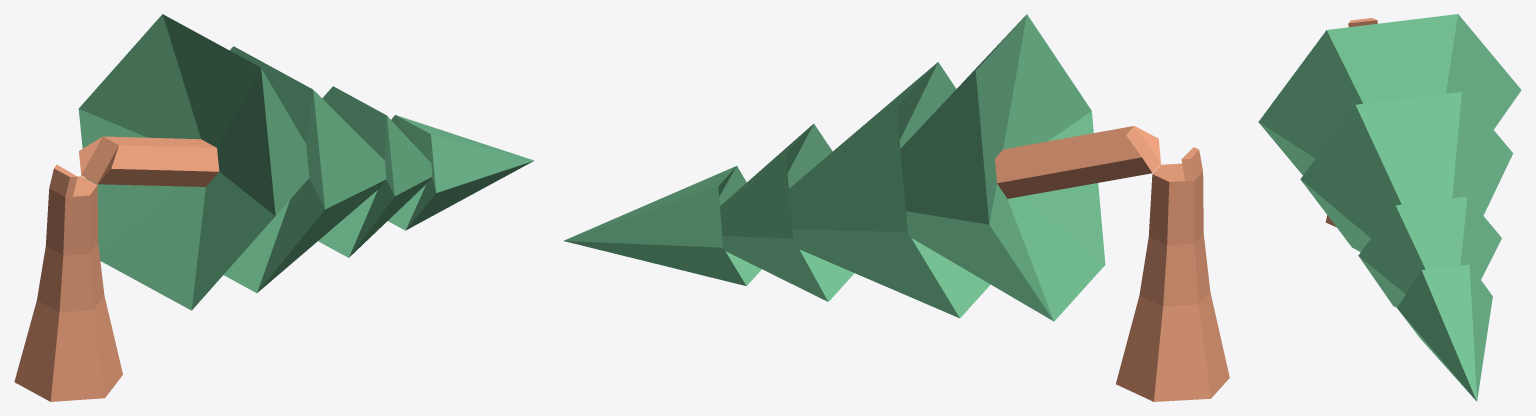
Rendered from bueno3.obj.
3 views of the same model, side by side, from view 1: azimuth 30°, elevation 25°; view 2: azimuth 150°, elevation 25°; view 3: azimuth 270°, elevation 25° (orthographic). The views are drawn at different scales.
Visible parts, largest first — view 1: Pine_4; view 2: Pine_4; view 3: Pine_4.
Boxes of the visible parts, box(x1,y1,x2,y2) form: Pine_4: box(14, 14, 534, 401); Pine_4: box(563, 14, 1229, 401); Pine_4: box(1258, 14, 1521, 401).
Bounding box in the file's own units: 9.45 × 4.73 × 4.24.
